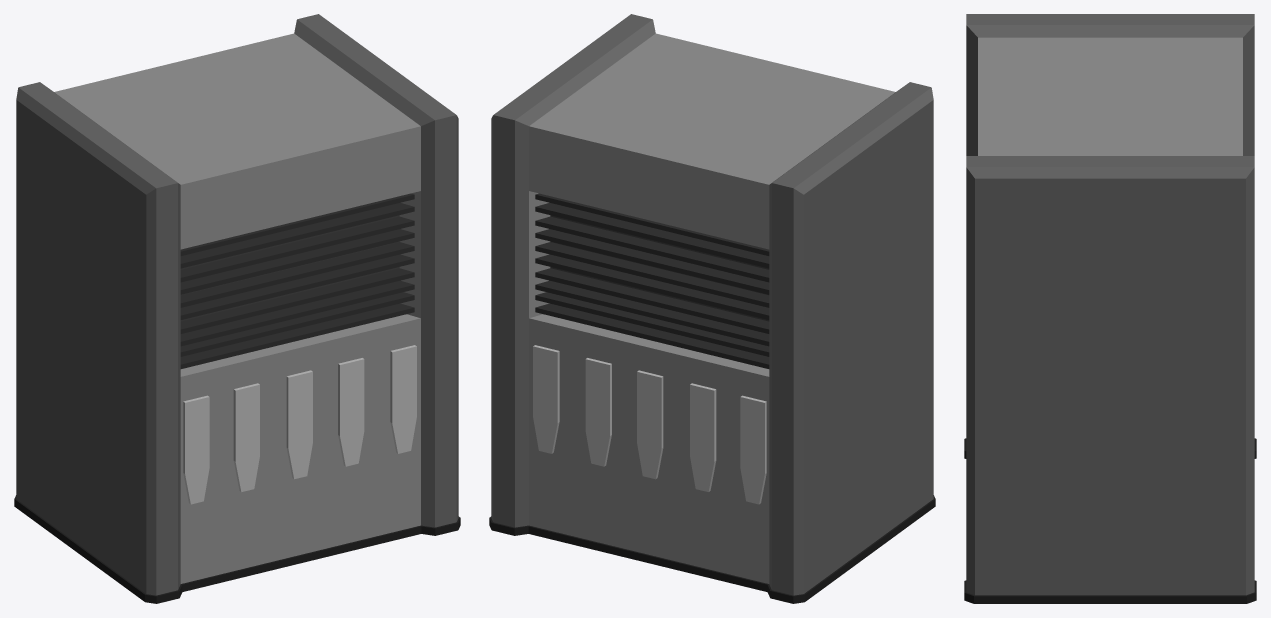
File: building_E.FBX
3 renders of one model, left to right at view 1: azimuth 30°, elevation 25°; view 2: azimuth 150°, elevation 25°; view 3: azimuth 270°, elevation 25°, orthographic. The views are drawn at different scales.
Visible parts, largest first — view 1: factory_building_E; view 2: factory_building_E; view 3: factory_building_E.
Boxes of the visible parts, x1,y1,x2,y2 form: factory_building_E: (14,14,460,603); factory_building_E: (489,14,935,603); factory_building_E: (964,14,1256,603).
Size of the model in its own units: 1460 by 1834 by 1123.
